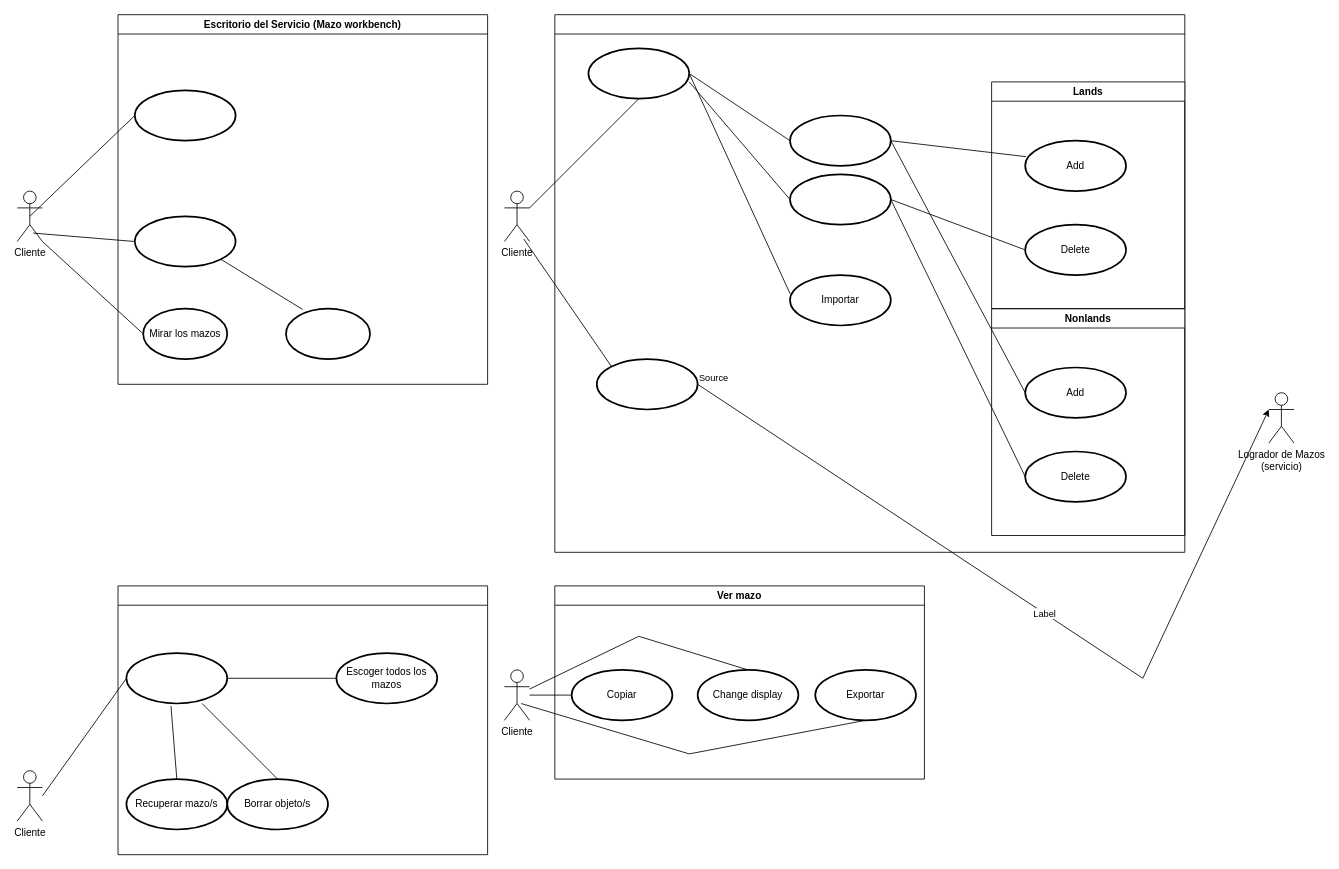
The diagram is 1339 pixels wide and 869 high, and some of its shapes have lost their labels. The shapes that lost their labels are listed below. From the top down, each one's box as (x1, y1, x2, y2) in pixels, then its label:
(587, 47, 690, 99): Crear
(134, 89, 236, 141): Registrar Usuario
(789, 114, 891, 166): Añadir cartas
(789, 173, 891, 225): Eliminar cartas
(134, 215, 236, 267): Crear/Editar un mazo
(554, 14, 1185, 552): Creacion/Edición del Mazo
(285, 307, 370, 360): Eliminar mazos
(596, 358, 698, 410): Guardar mazo
(125, 652, 228, 704): Escoger un mazo
(117, 585, 488, 855): Papelera de mazos
